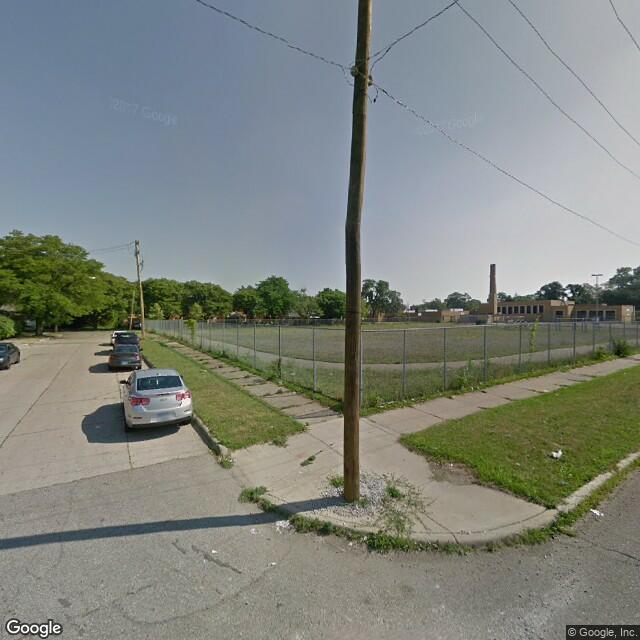litter: (547, 446, 568, 461), (589, 507, 605, 517)
